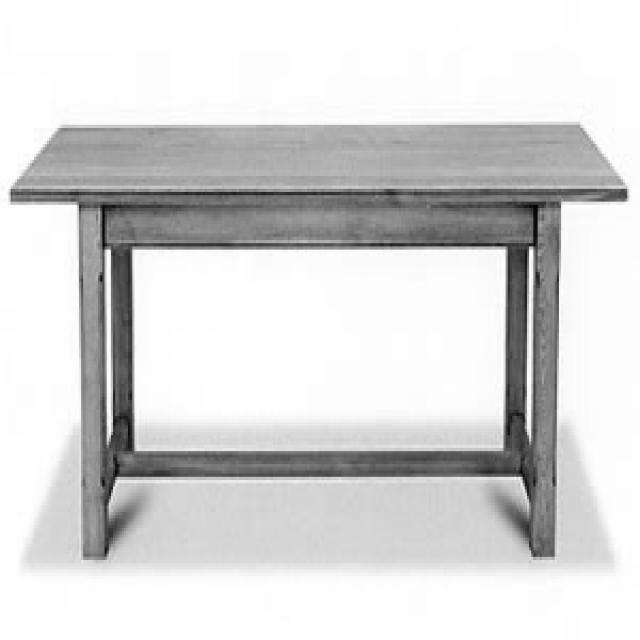table: (6, 98, 628, 558)
